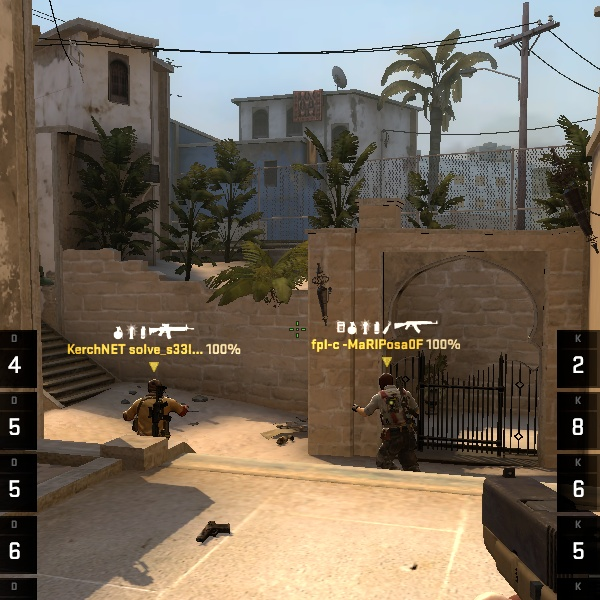t_body: (358, 370, 419, 465), (121, 373, 185, 437)
t_head: (140, 374, 171, 405), (374, 369, 403, 400)
